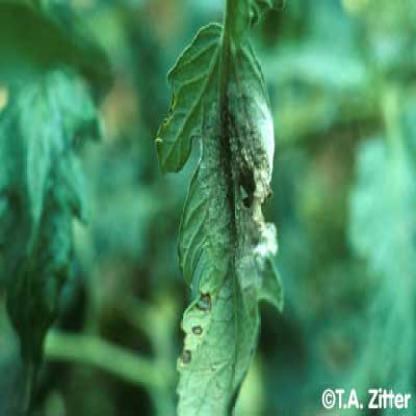Tomato leaf late blight: (160, 20, 303, 414)
